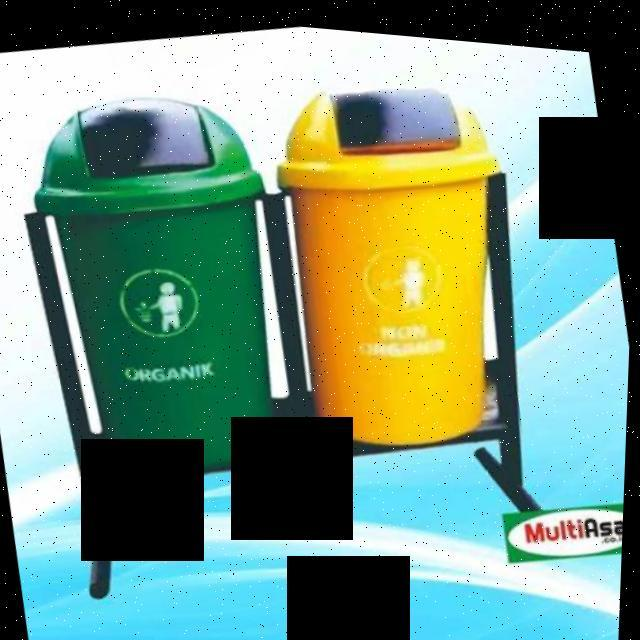bin: (0, 47, 342, 511), (250, 28, 563, 474)
